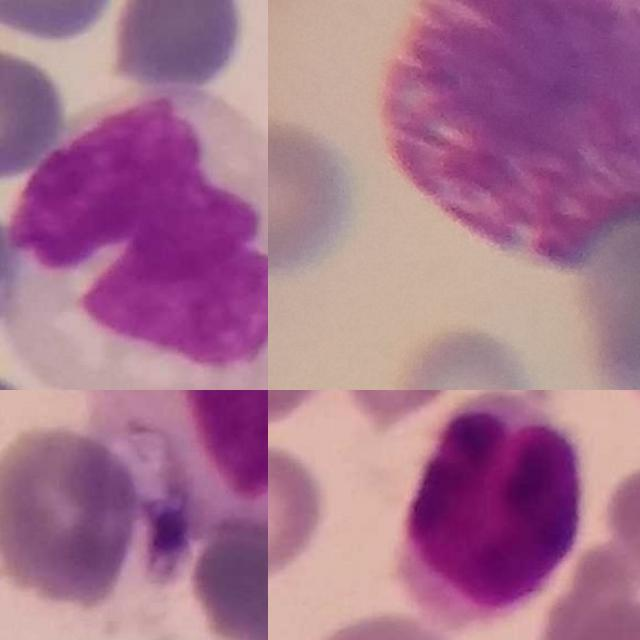Basophil: (376, 0, 640, 265)
Lymphocyte: (398, 390, 586, 636)
Monocyte: (0, 95, 268, 390), (81, 390, 268, 531)
